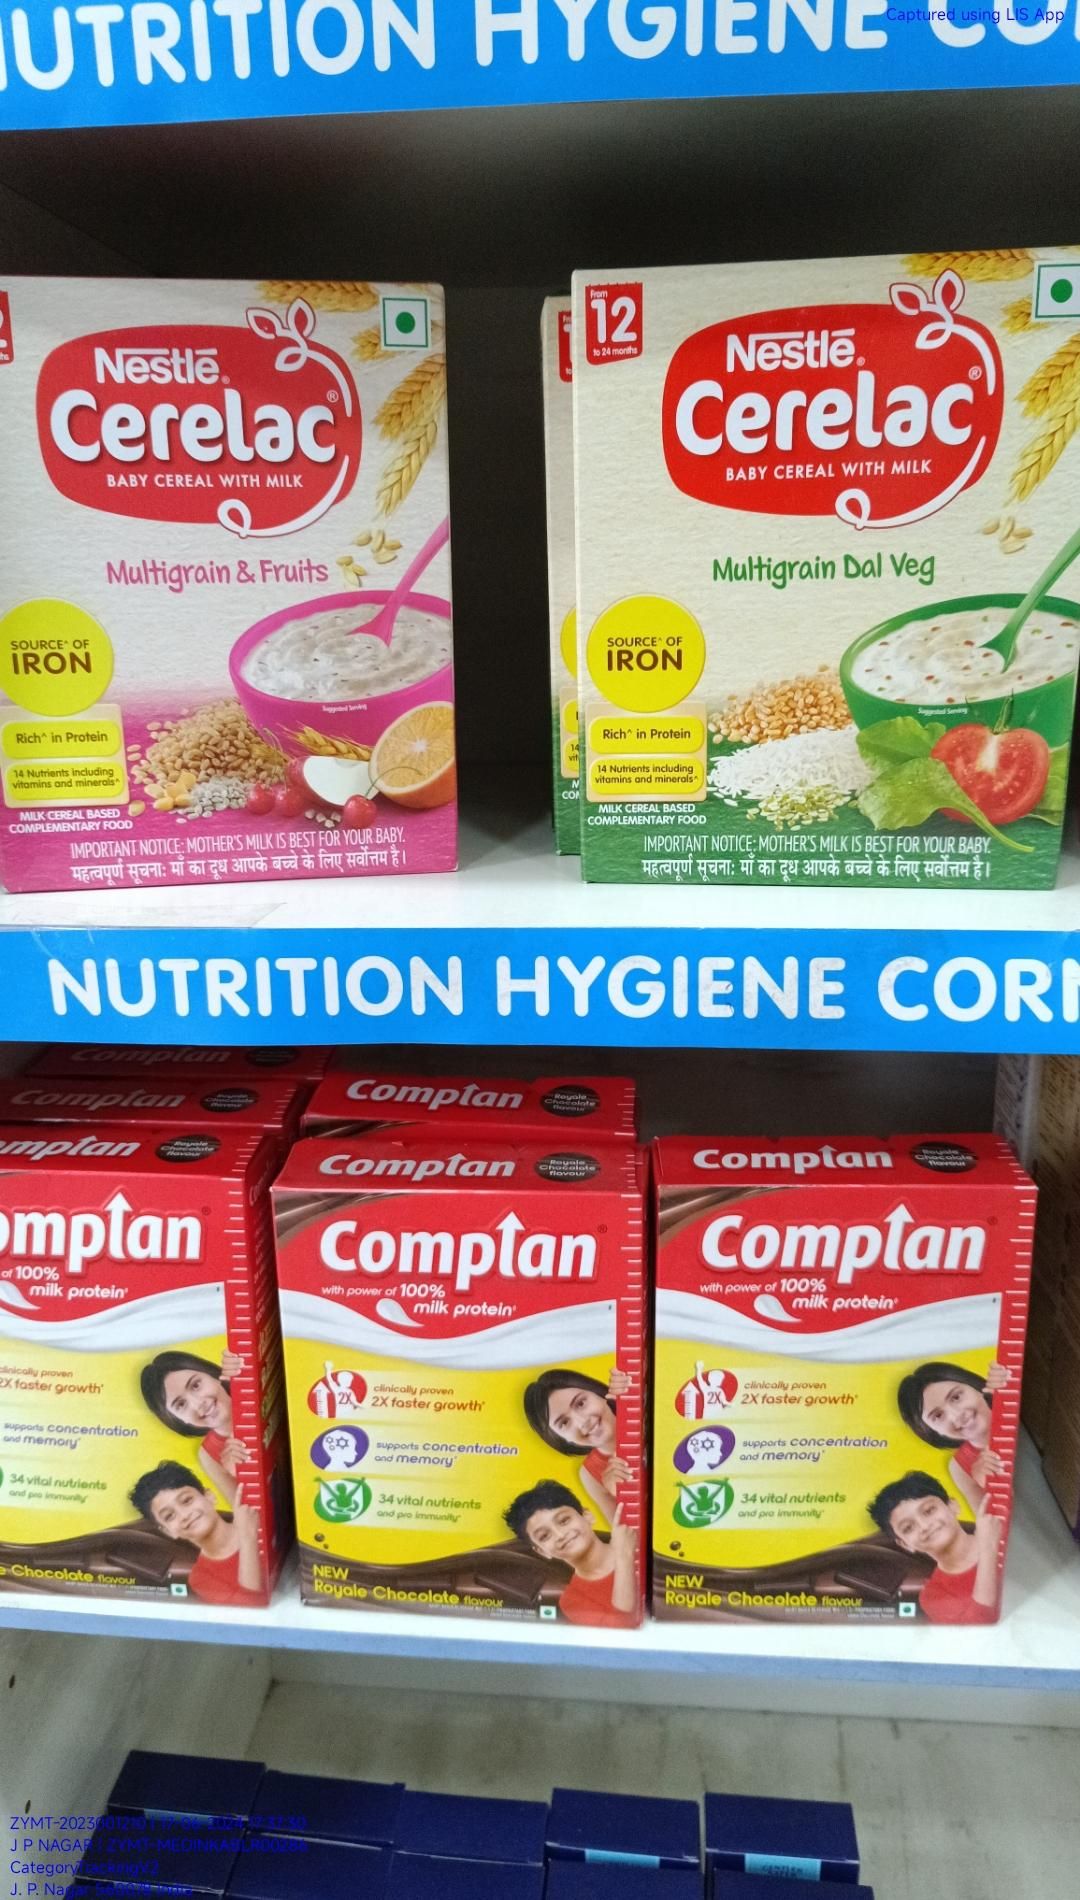COMPLAN_CHOCOLATE_500_GMS_PACK: (283, 1184, 642, 1619), (661, 1180, 1010, 1625), (3, 1168, 265, 1609)
